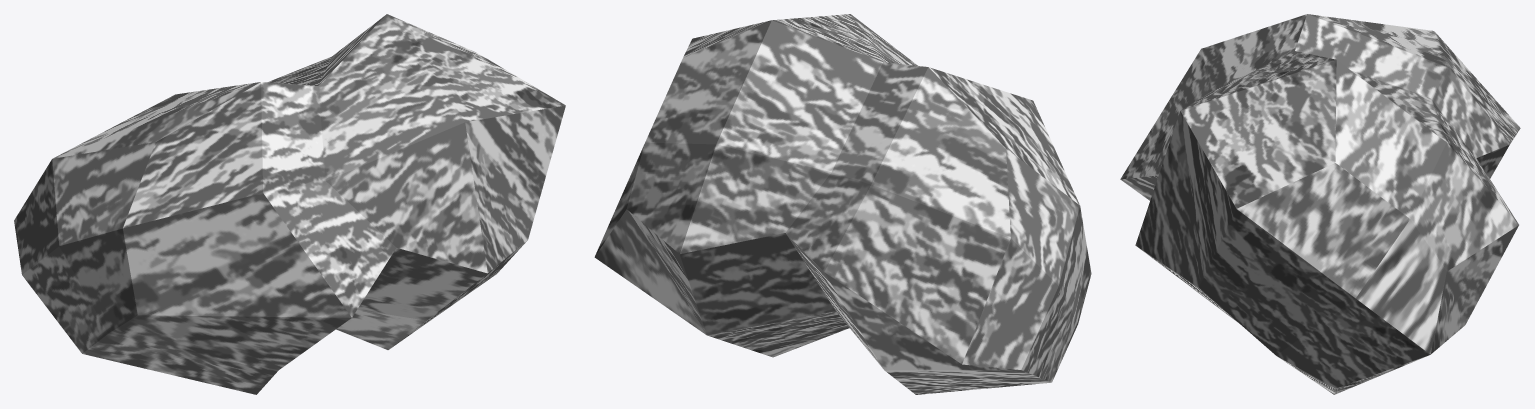
File: AluminiumOre.fbx
3 views of the same model, side by side, from view 1: azimuth 30°, elevation 25°; view 2: azimuth 150°, elevation 25°; view 3: azimuth 270°, elevation 25° (orthographic).
Visible parts, largest first — view 1: Cube; view 2: Cube; view 3: Cube.
Part boxes in pixels (x1,y1,x2,y2): Cube: [14, 14, 565, 394]; Cube: [594, 14, 1091, 394]; Cube: [1120, 14, 1520, 394].
Size of the model in its own units: 351 by 264 by 280.
